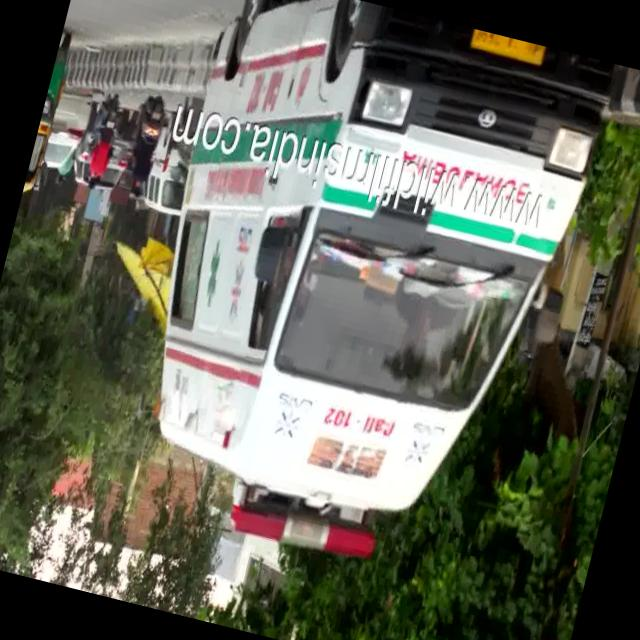ambulance: (104, 147, 581, 582), (185, 25, 607, 191)
